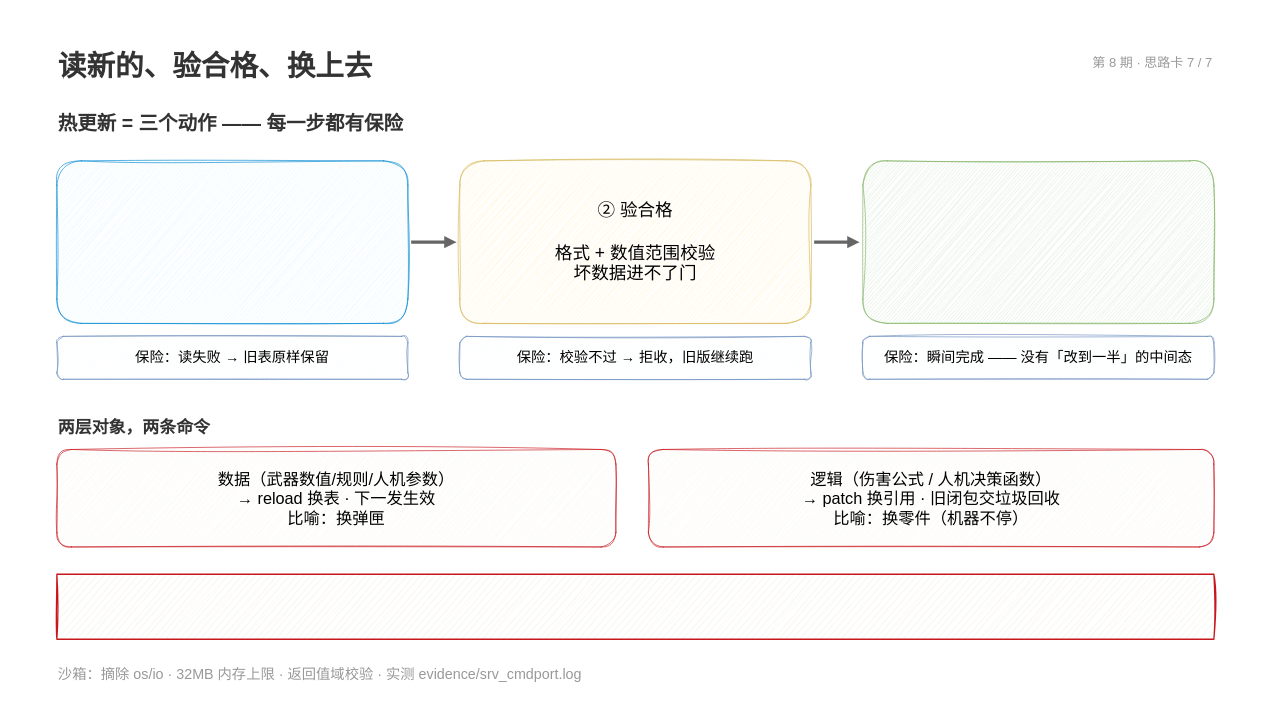
Image size: 1270x724. Some labels were removed from this diagram. The centre of each missing label's shape, as x and y in pixels:
"① 读新的 把配置/脚本文件 重新加载进内存" goes at (x=232, y=241).
"③ 换上去 原子切换 下一帧起全读新值" goes at (x=1038, y=241).
"改崩了？自动回退上一版 —— 笼子里的计算，出不去" goes at (x=635, y=606).
